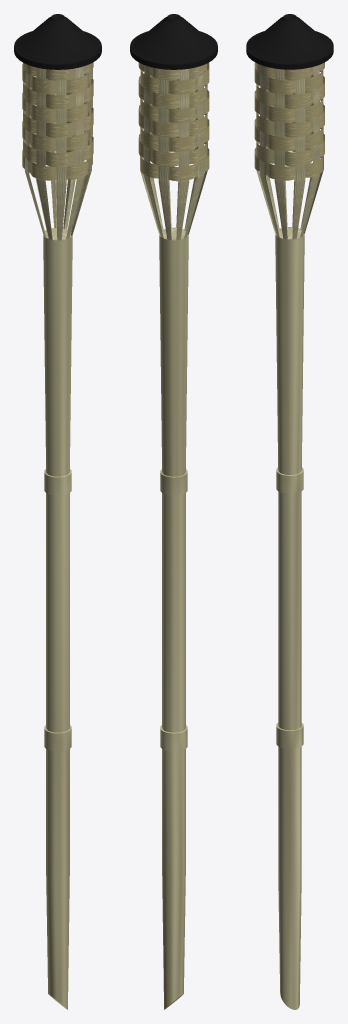
File: tikiTorch.obj
The picture shows the model from 3 angles, left to right: view 1: azimuth 30°, elevation 25°; view 2: azimuth 150°, elevation 25°; view 3: azimuth 330°, elevation 25°; orthographic projection.
Visible parts, largest first — view 1: Torch, Bark, Cap; view 2: Torch, Bark, Cap; view 3: Torch, Bark, Cap.
Boxes of the visible parts, box(x1,y1,x2,y2) form: Torch: box(24, 66, 91, 1009); Bark: box(22, 62, 93, 180); Cap: box(14, 14, 101, 69); Torch: box(140, 65, 207, 1009); Bark: box(138, 62, 209, 181); Cap: box(130, 14, 217, 69); Torch: box(256, 65, 323, 1009); Bark: box(254, 62, 324, 180); Cap: box(246, 14, 333, 69).
Bounding box in the file's own units: 72.63 × 906 × 72.63.
